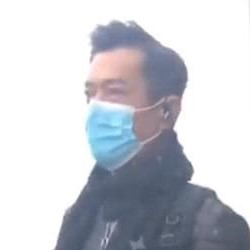mask: (82, 95, 154, 172)
